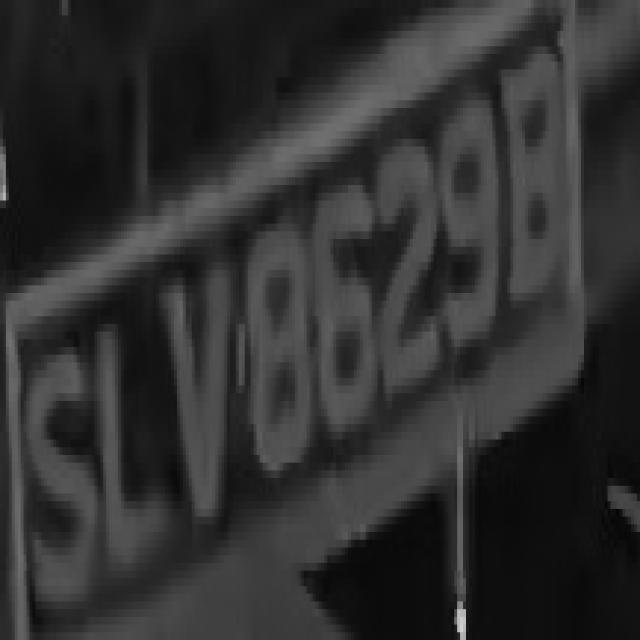2: (369, 131, 442, 409)
6: (304, 170, 380, 455)
8: (236, 201, 318, 494)
9: (434, 77, 507, 363)
B: (502, 31, 566, 308)
L: (94, 293, 171, 578)
S: (26, 308, 94, 624)
V: (165, 239, 233, 548)
